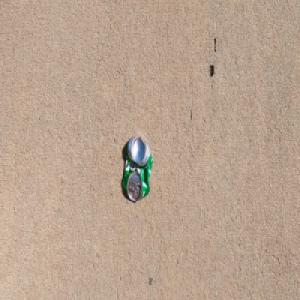SodaCan: (121, 134, 153, 202)
